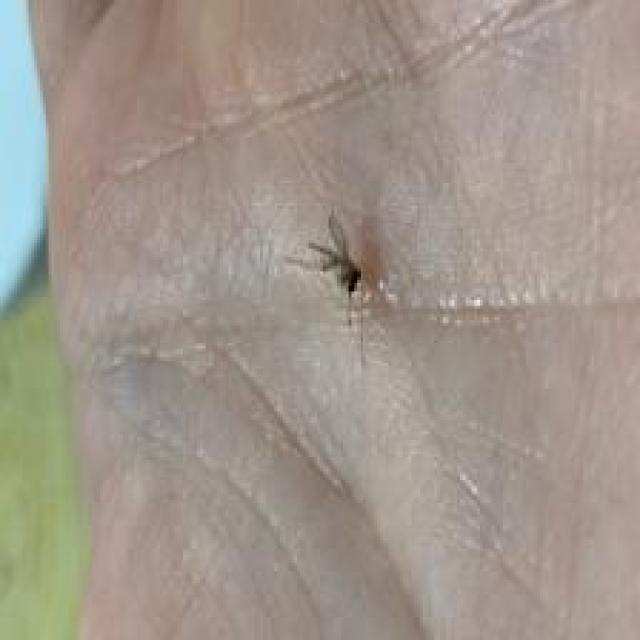Culex: (306, 210, 366, 327)
